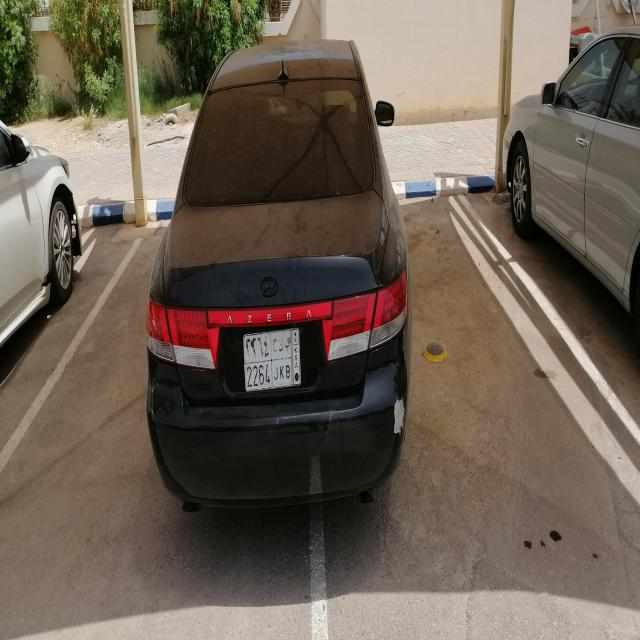license_plate: (242, 328, 302, 394)
